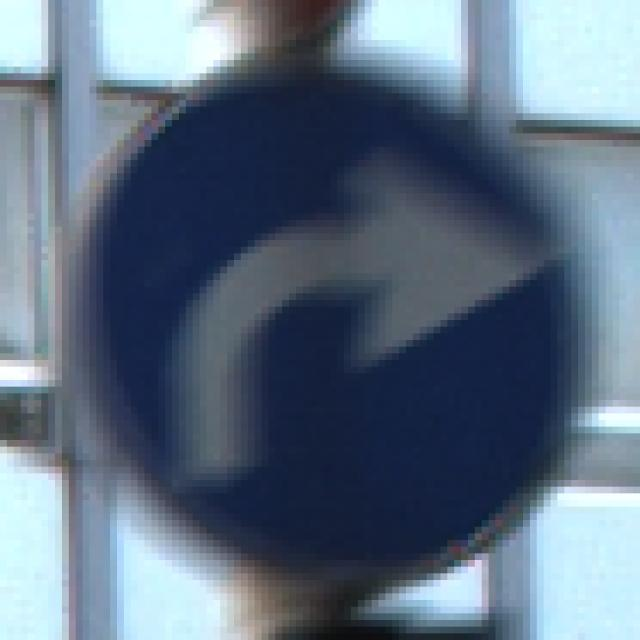compulsary turn right ahead: (76, 63, 589, 578)
